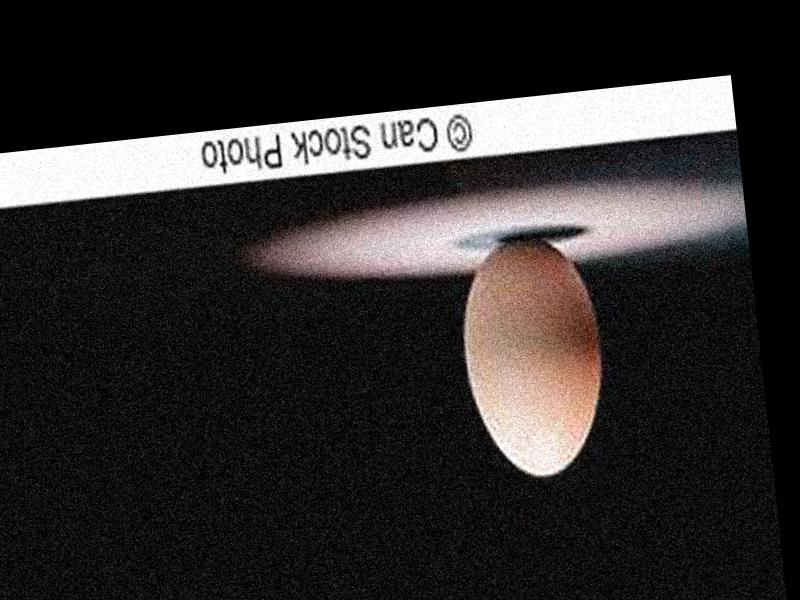Eggs: (453, 228, 616, 481)
